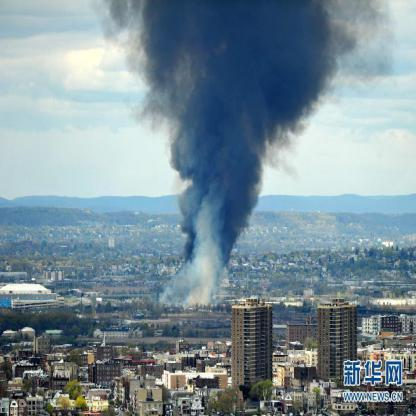smoke: (131, 0, 349, 72), (152, 72, 320, 123), (167, 125, 268, 186), (175, 186, 245, 245), (174, 244, 224, 298)
